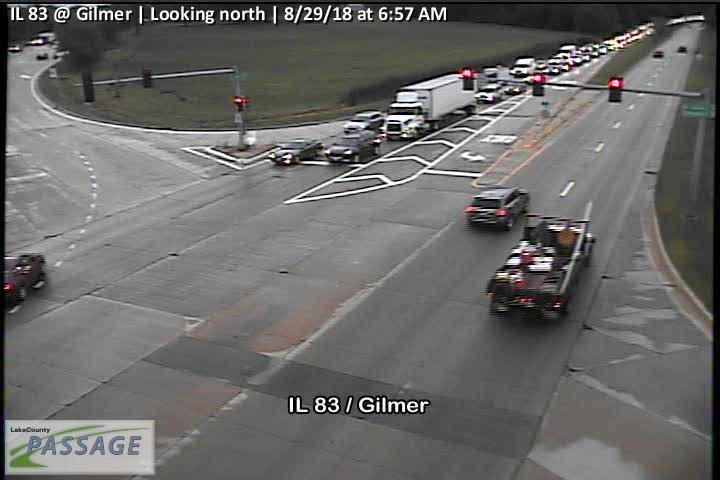SUV: (464, 187, 530, 231), (4, 254, 48, 308), (324, 130, 381, 165), (342, 109, 384, 137), (477, 83, 502, 104)
Sedan: (269, 138, 322, 165)
Truck: (483, 213, 595, 322), (385, 72, 477, 138), (513, 57, 535, 78)
